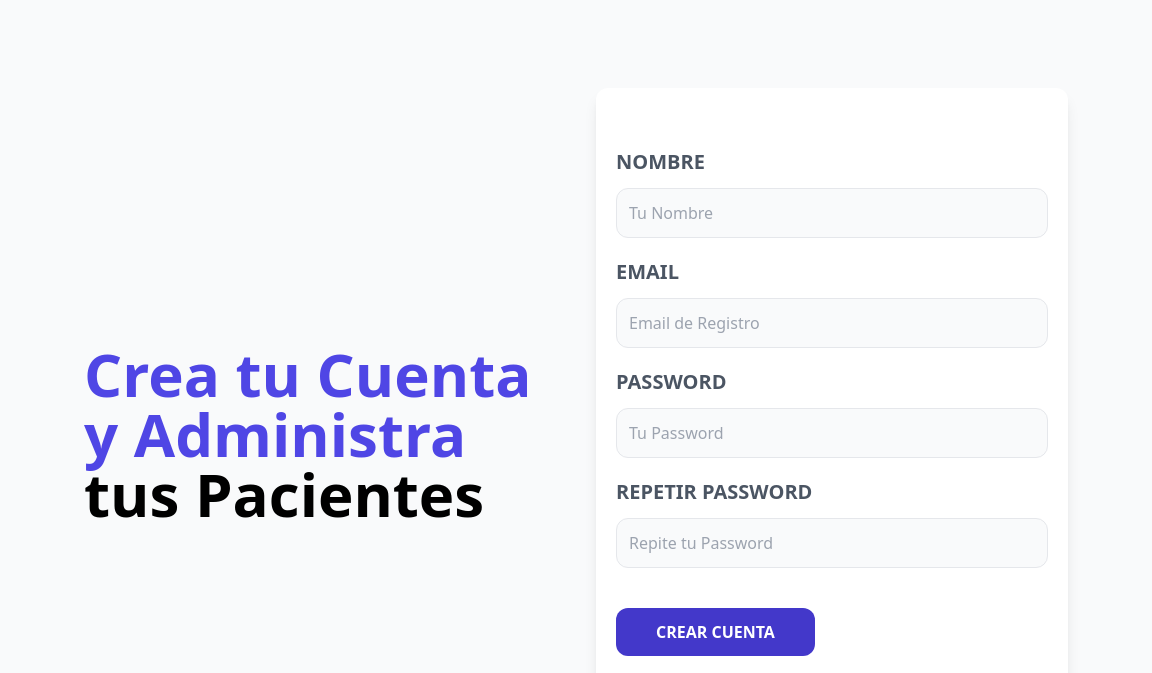
Test case: Pruebas en el formulario de Registro › Debe mostrar error si hay campos vacíos al enviar el formulario
Click the submit button.
click(716, 632)  # box [616, 608, 815, 656]
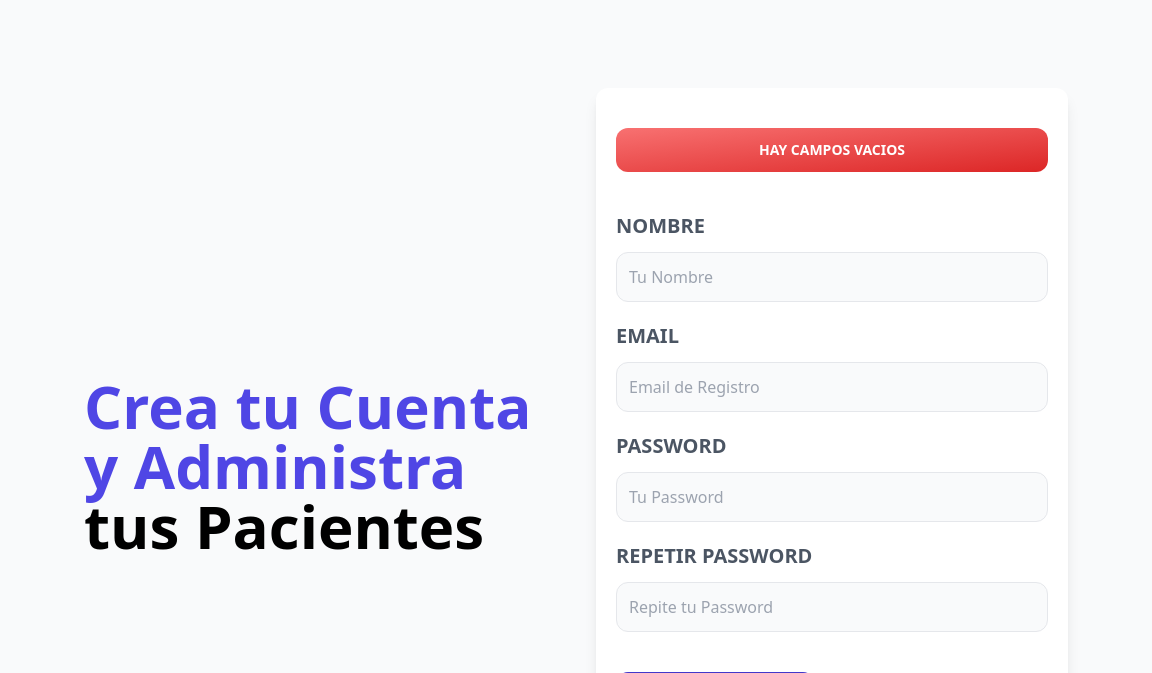
Check: the text with class "alerta" reads "Hay campos vacios", box [616, 128, 1048, 172]
